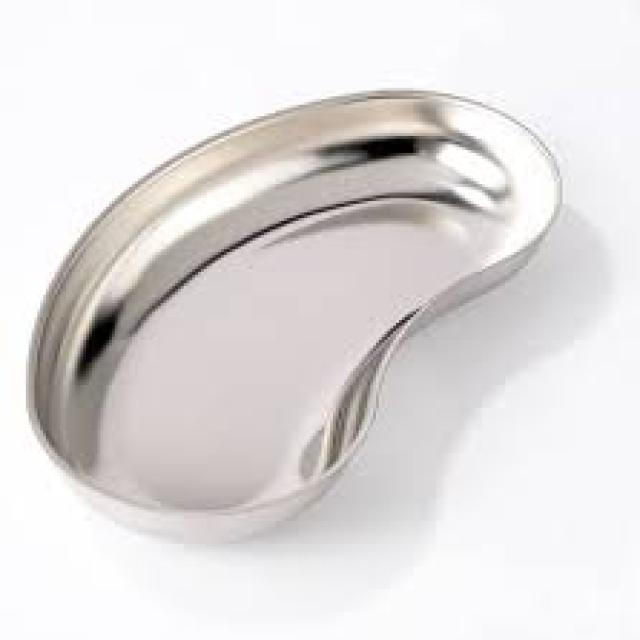Kidney Tray: (22, 91, 564, 538)
